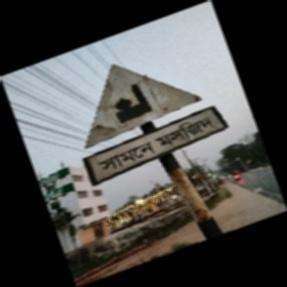Mosque in front: (83, 58, 228, 184)
